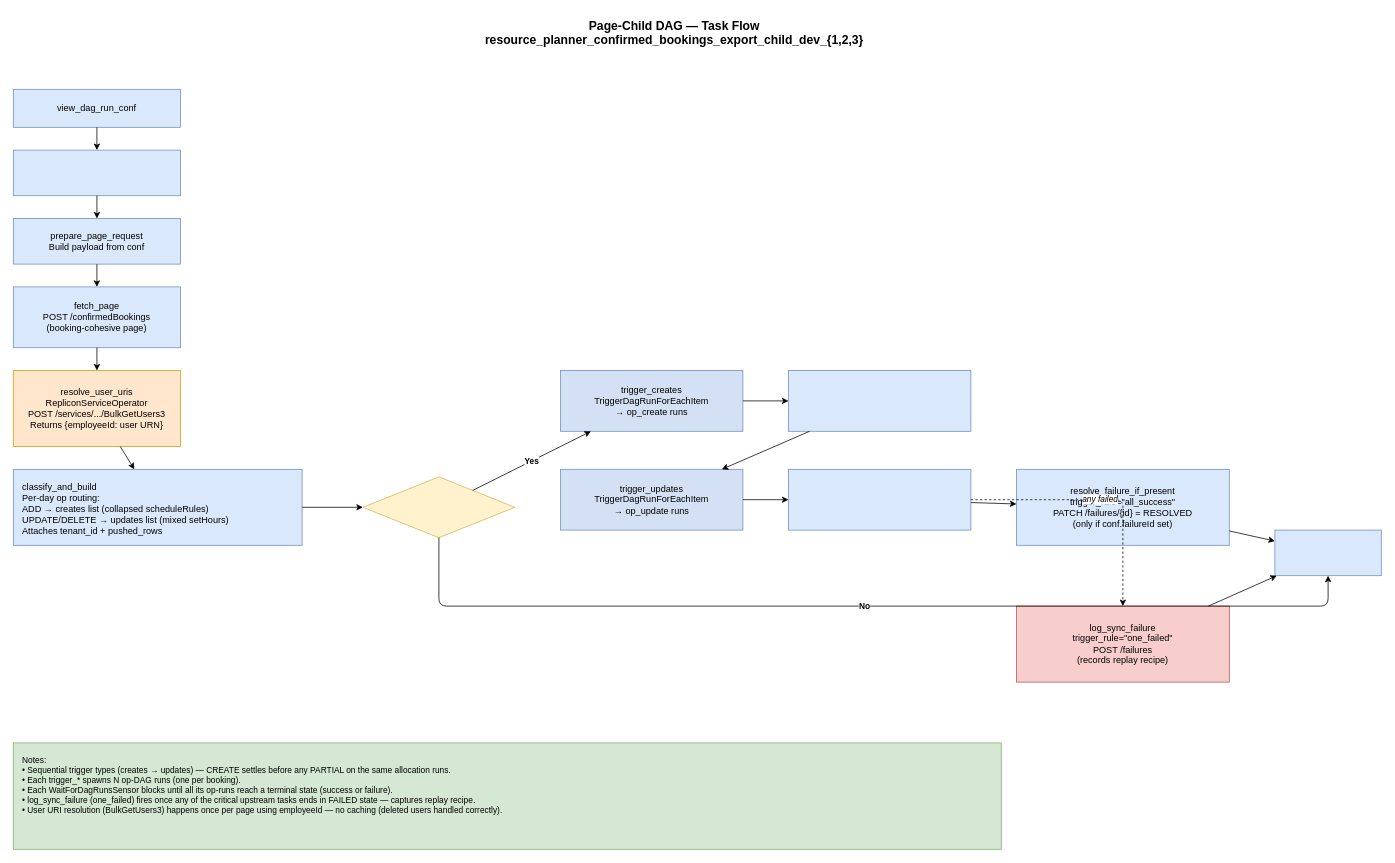
Image size: 1395x863. Some labels were removed from this diagram. The shapes that lost their labels are listed below. From the top down, each one's box as (x1, y1, x2, y2) in pixels, then its label:
(13, 149, 180, 196): capture_page_conf (PythonOperator)
(788, 370, 971, 431): wait_for_create_runs WaitForDagRunsSensor execution_timeout=2h
(362, 476, 515, 538): has_work (IfOperator) total_count > 0?
(788, 469, 971, 530): wait_for_update_runs WaitForDagRunsSensor execution_timeout=2h
(1274, 529, 1381, 576): end_task trigger_rule="all_done"
